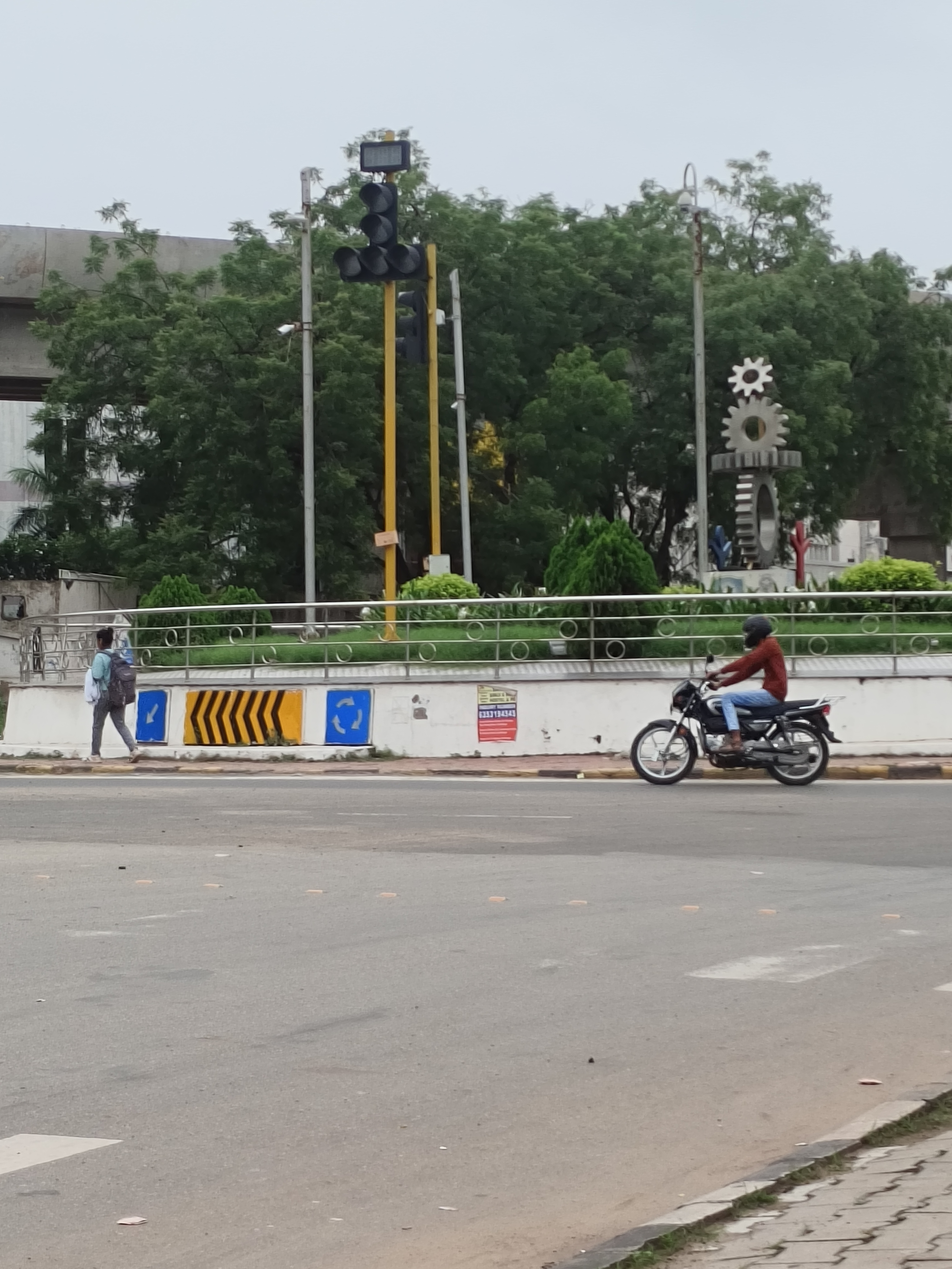BikeWithRider: (615, 600, 849, 804)
Helmet: (736, 592, 783, 647)
